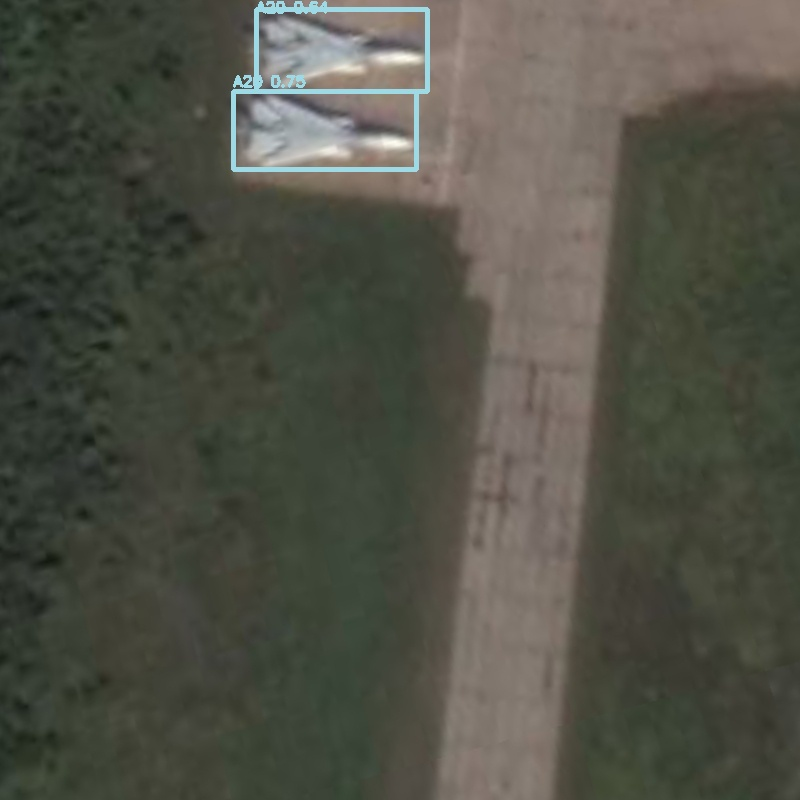A20: (233, 91, 416, 169), (256, 9, 427, 91)
